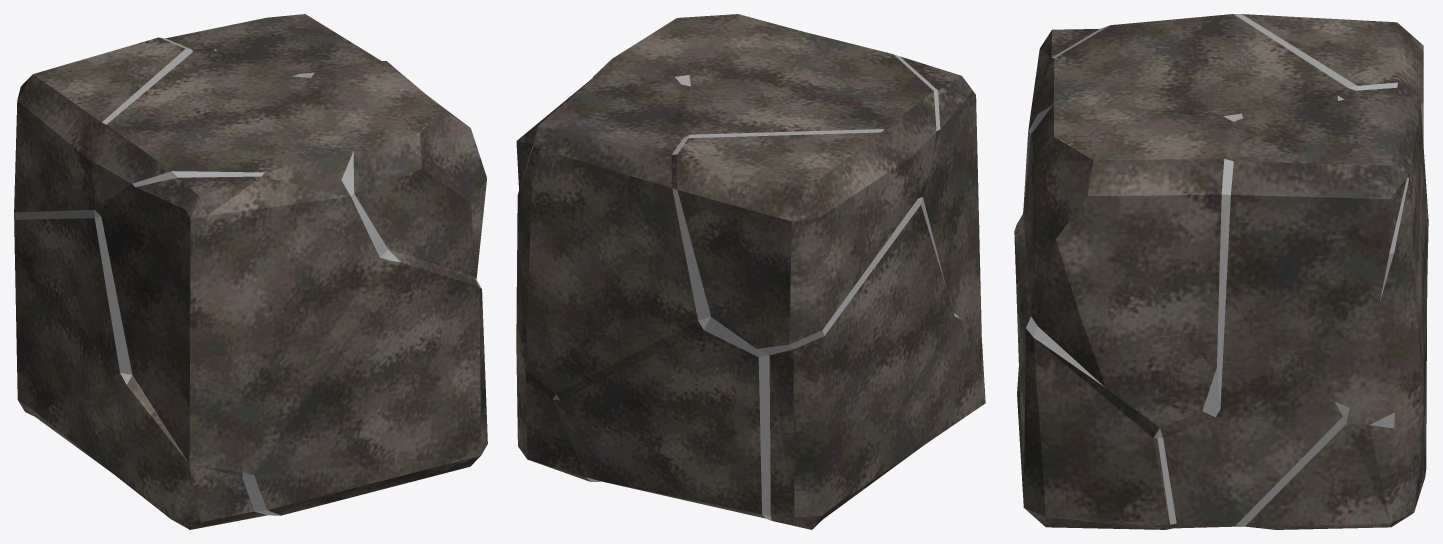
File: Brick.fbx
3 views of the same model, side by side, from view 1: azimuth 30°, elevation 25°; view 2: azimuth 150°, elevation 25°; view 3: azimuth 270°, elevation 25° (orthographic). The views are drawn at different scales.
Parts seen in each view (by area): view 1: Stone_18; view 2: Stone_18; view 3: Stone_18.
Part boxes in pixels (box(x1,y1,x2,y2)): Stone_18: box(14, 14, 487, 529); Stone_18: box(516, 14, 985, 529); Stone_18: box(1014, 14, 1428, 529).
Bounding box in the file's own units: 24.61 × 24.38 × 24.64.
